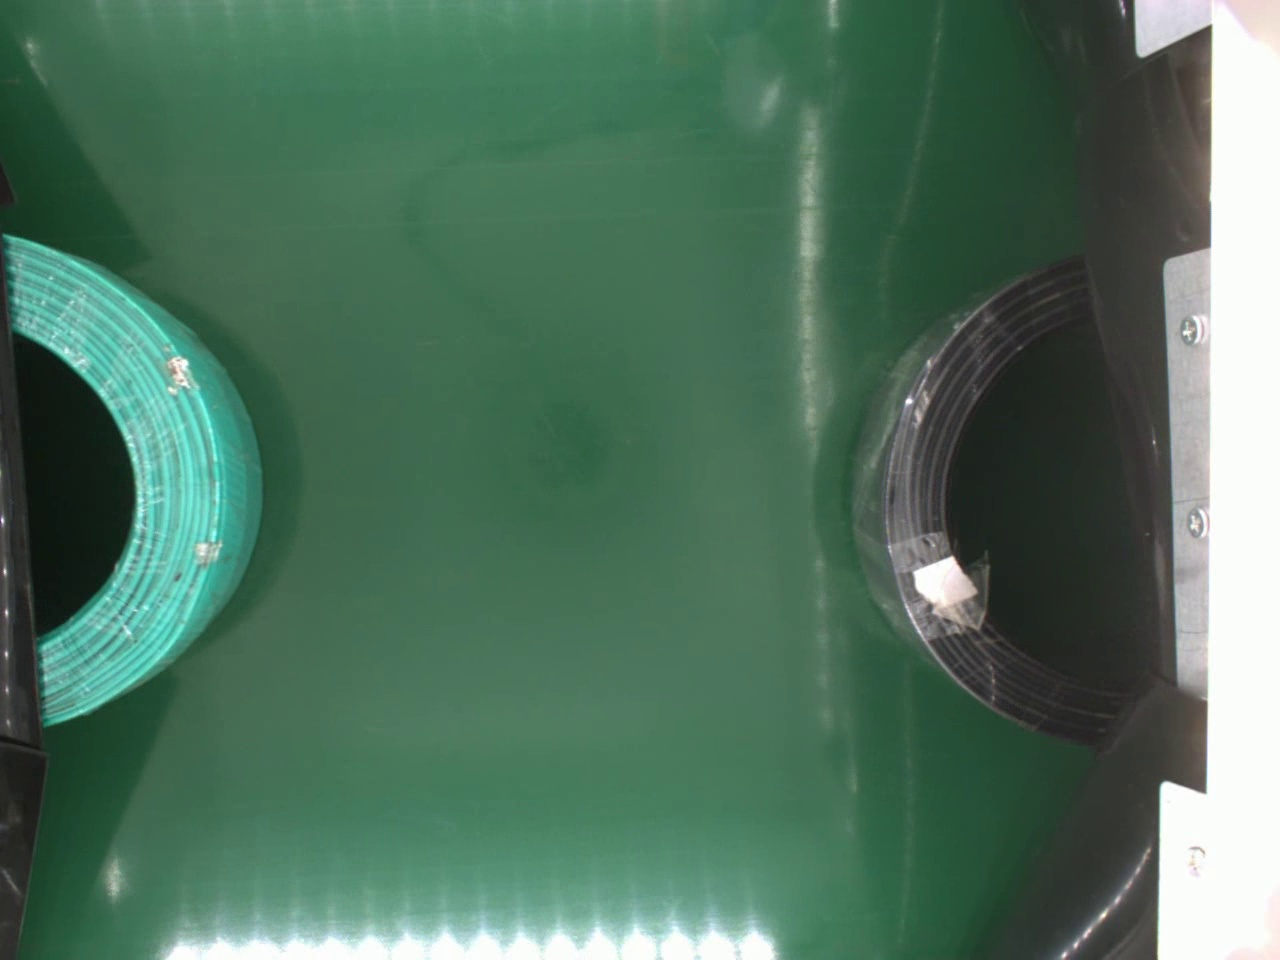black: (851, 262, 1155, 749)
green: (3, 234, 264, 741)
